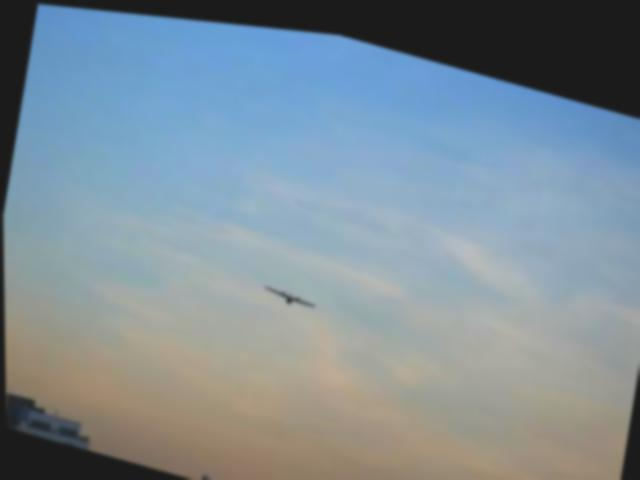uav: (256, 269, 323, 312)
